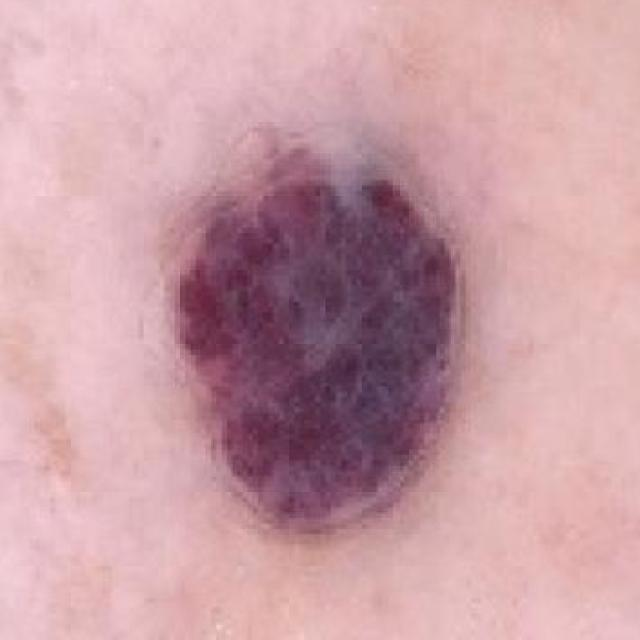VASC: (140, 100, 501, 563)
